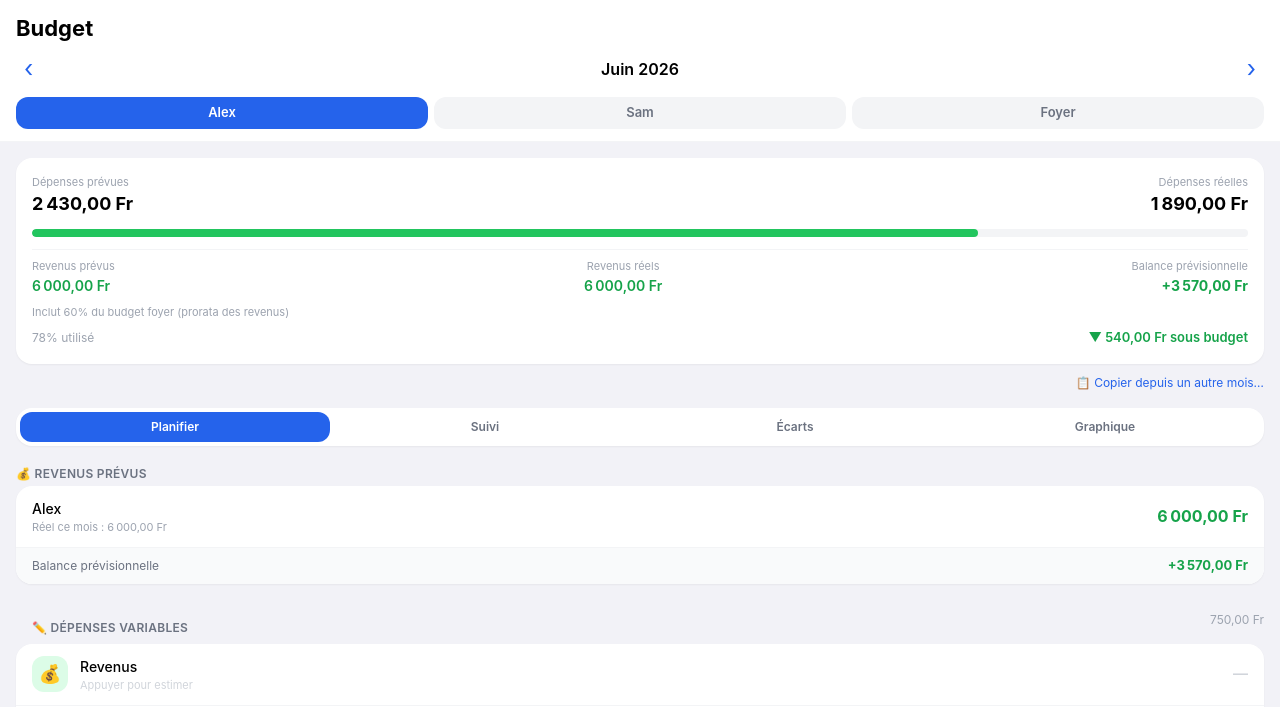
Test: Écran Budget — juin 2026 (mois courant) › onglet Sam : prévu 1 570, réel 1 410
Click the button "Sam" at (640, 113), box x1=434 y1=97 x2=846 y2=128
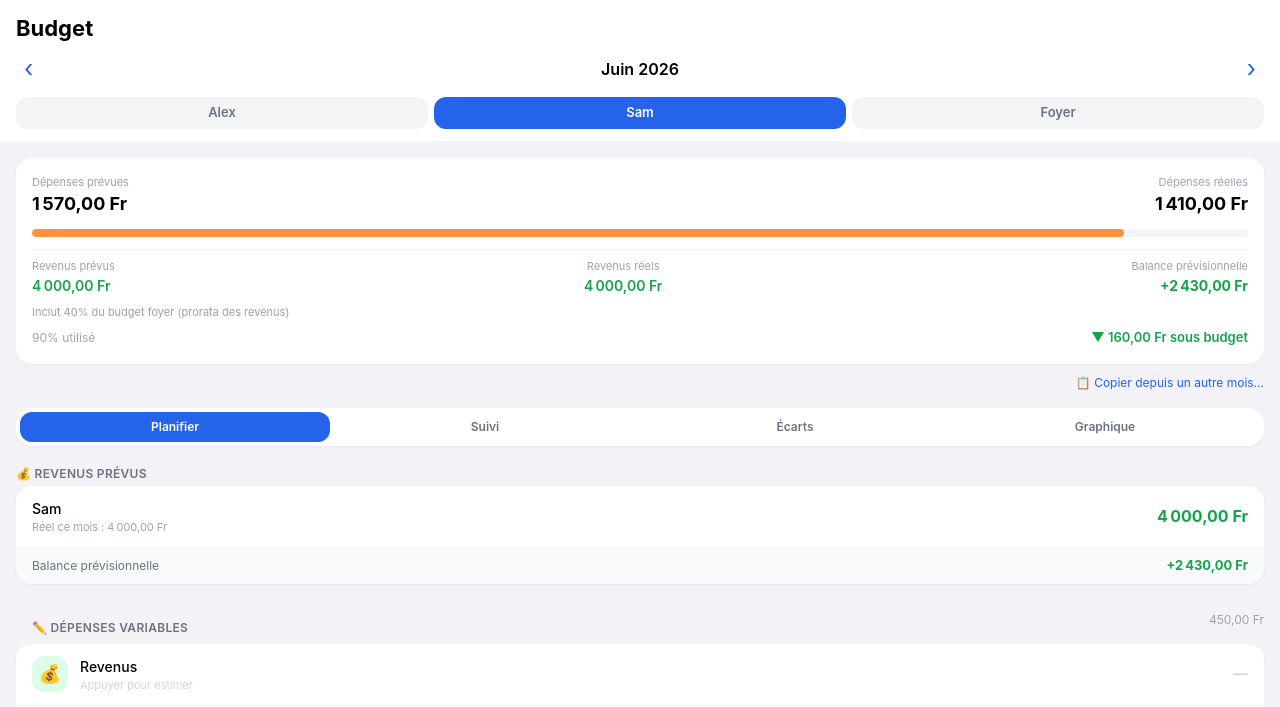
expect the text "1 570,00 Fr" is shown: met, box x1=32 y1=190 x2=129 y2=217
expect the text "1 410,00 Fr" is shown: met, box x1=1155 y1=190 x2=1248 y2=217
expect the text "Inclut 40% du budget foyer" is shown: met, box x1=32 y1=304 x2=289 y2=318
